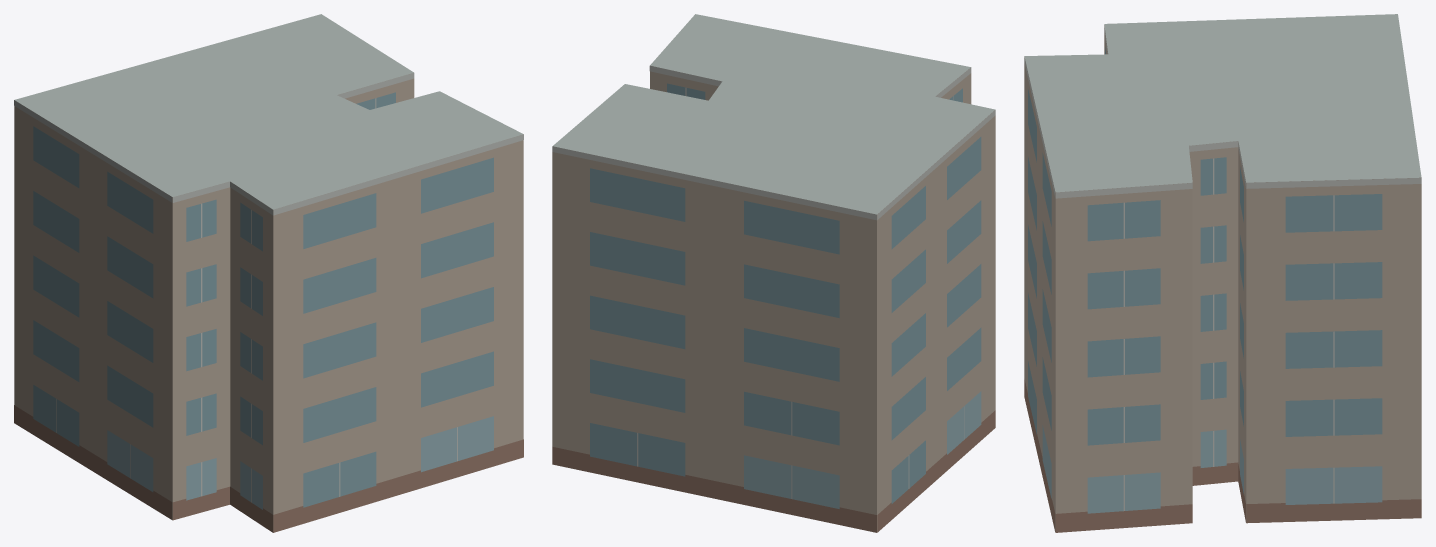
The model's file is survey-upis-32742739.glb.
3 renders of one model, left to right at view 1: azimuth 30°, elevation 25°; view 2: azimuth 150°, elevation 25°; view 3: azimuth 270°, elevation 25°, orthographic. The views are drawn at different scales.
Parts seen in each view (by area): view 1: survey-upis-32742739.tmp; view 2: survey-upis-32742739.tmp; view 3: survey-upis-32742739.tmp.
Part boxes in pixels (x1,y1,x2,y2): survey-upis-32742739.tmp: (14,14,523,532); survey-upis-32742739.tmp: (552,14,995,532); survey-upis-32742739.tmp: (1024,14,1421,532).
Size of the model in its own units: 15.12 by 13.44 by 14.22.
